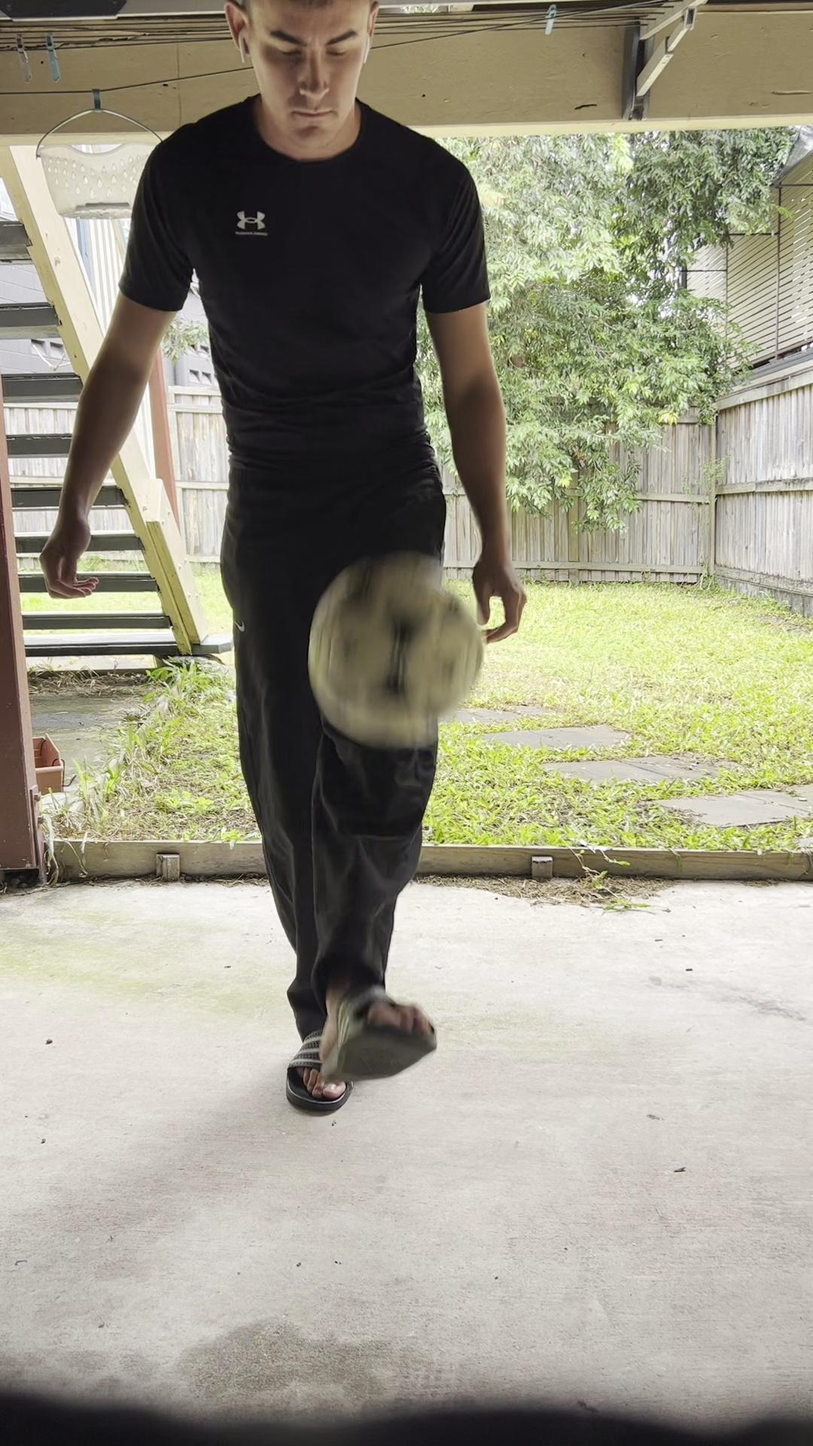ball: (306, 560, 481, 740)
foot: (321, 980, 440, 1082), (286, 1029, 349, 1115)
person: (39, 0, 526, 1120)
